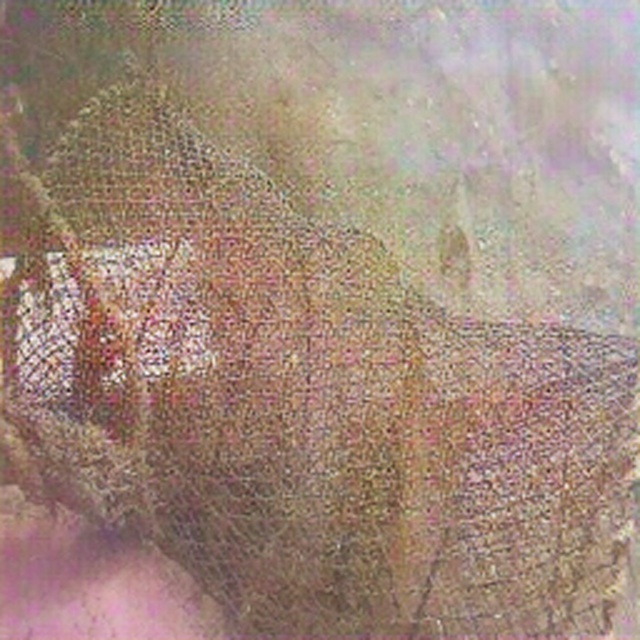mine: (0, 73, 640, 639)
